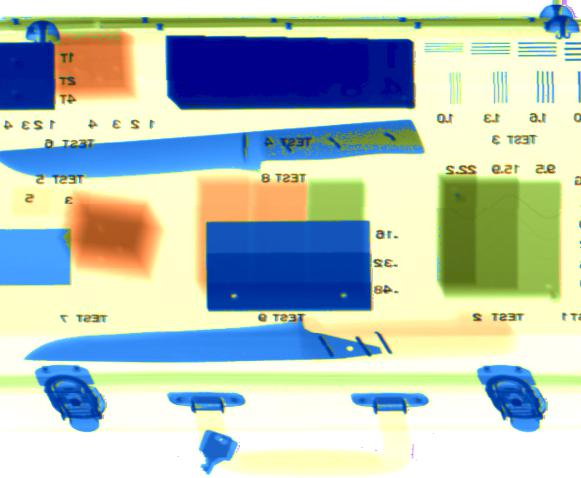Knife: (1, 119, 426, 180), (24, 315, 392, 362)
